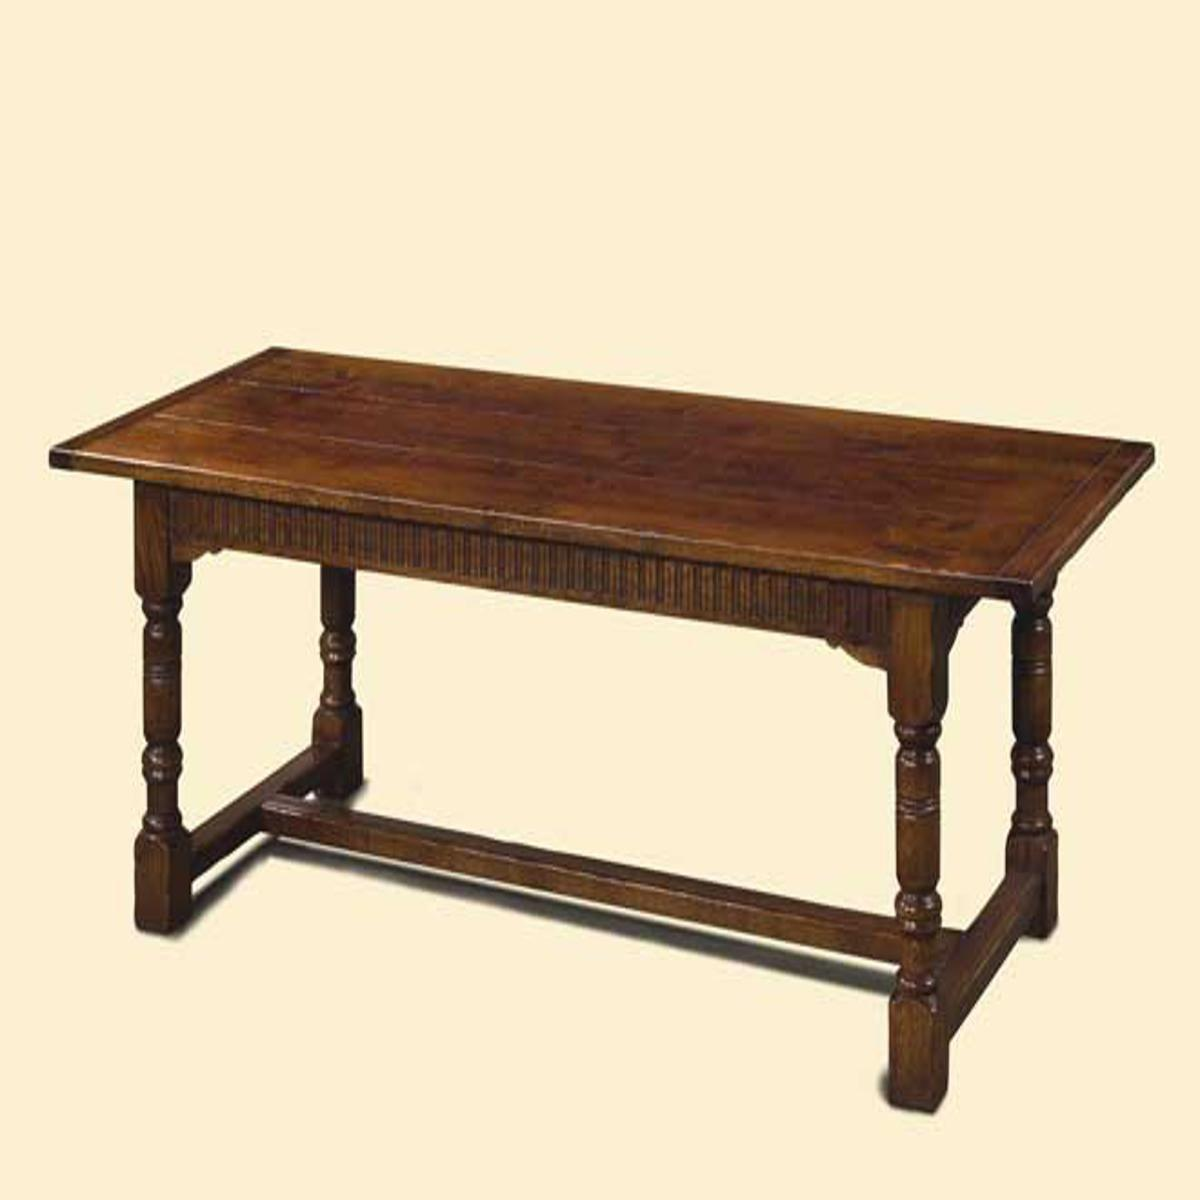Table: (25, 306, 1165, 1130)
